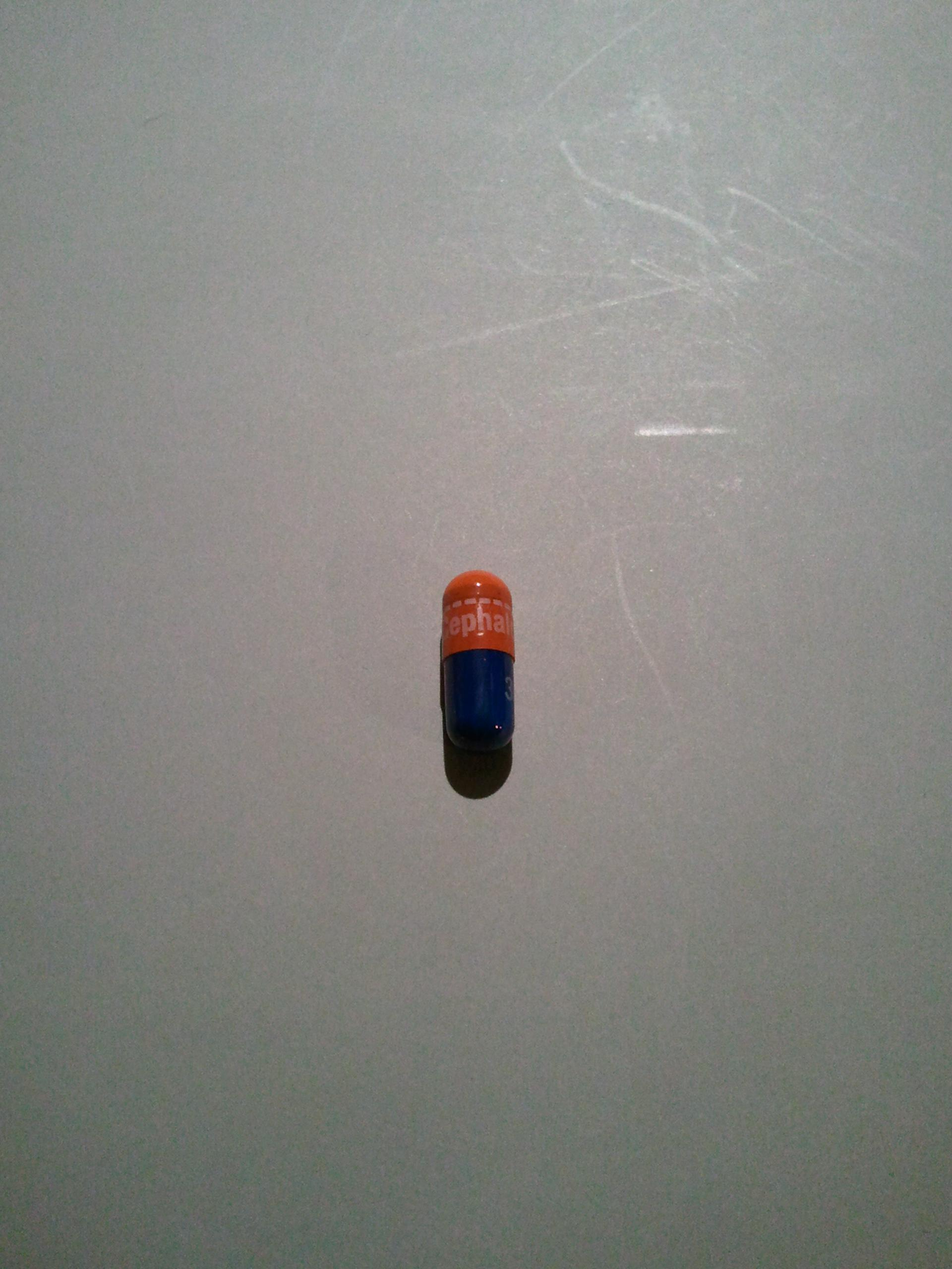Pill: (419, 553, 535, 809)
